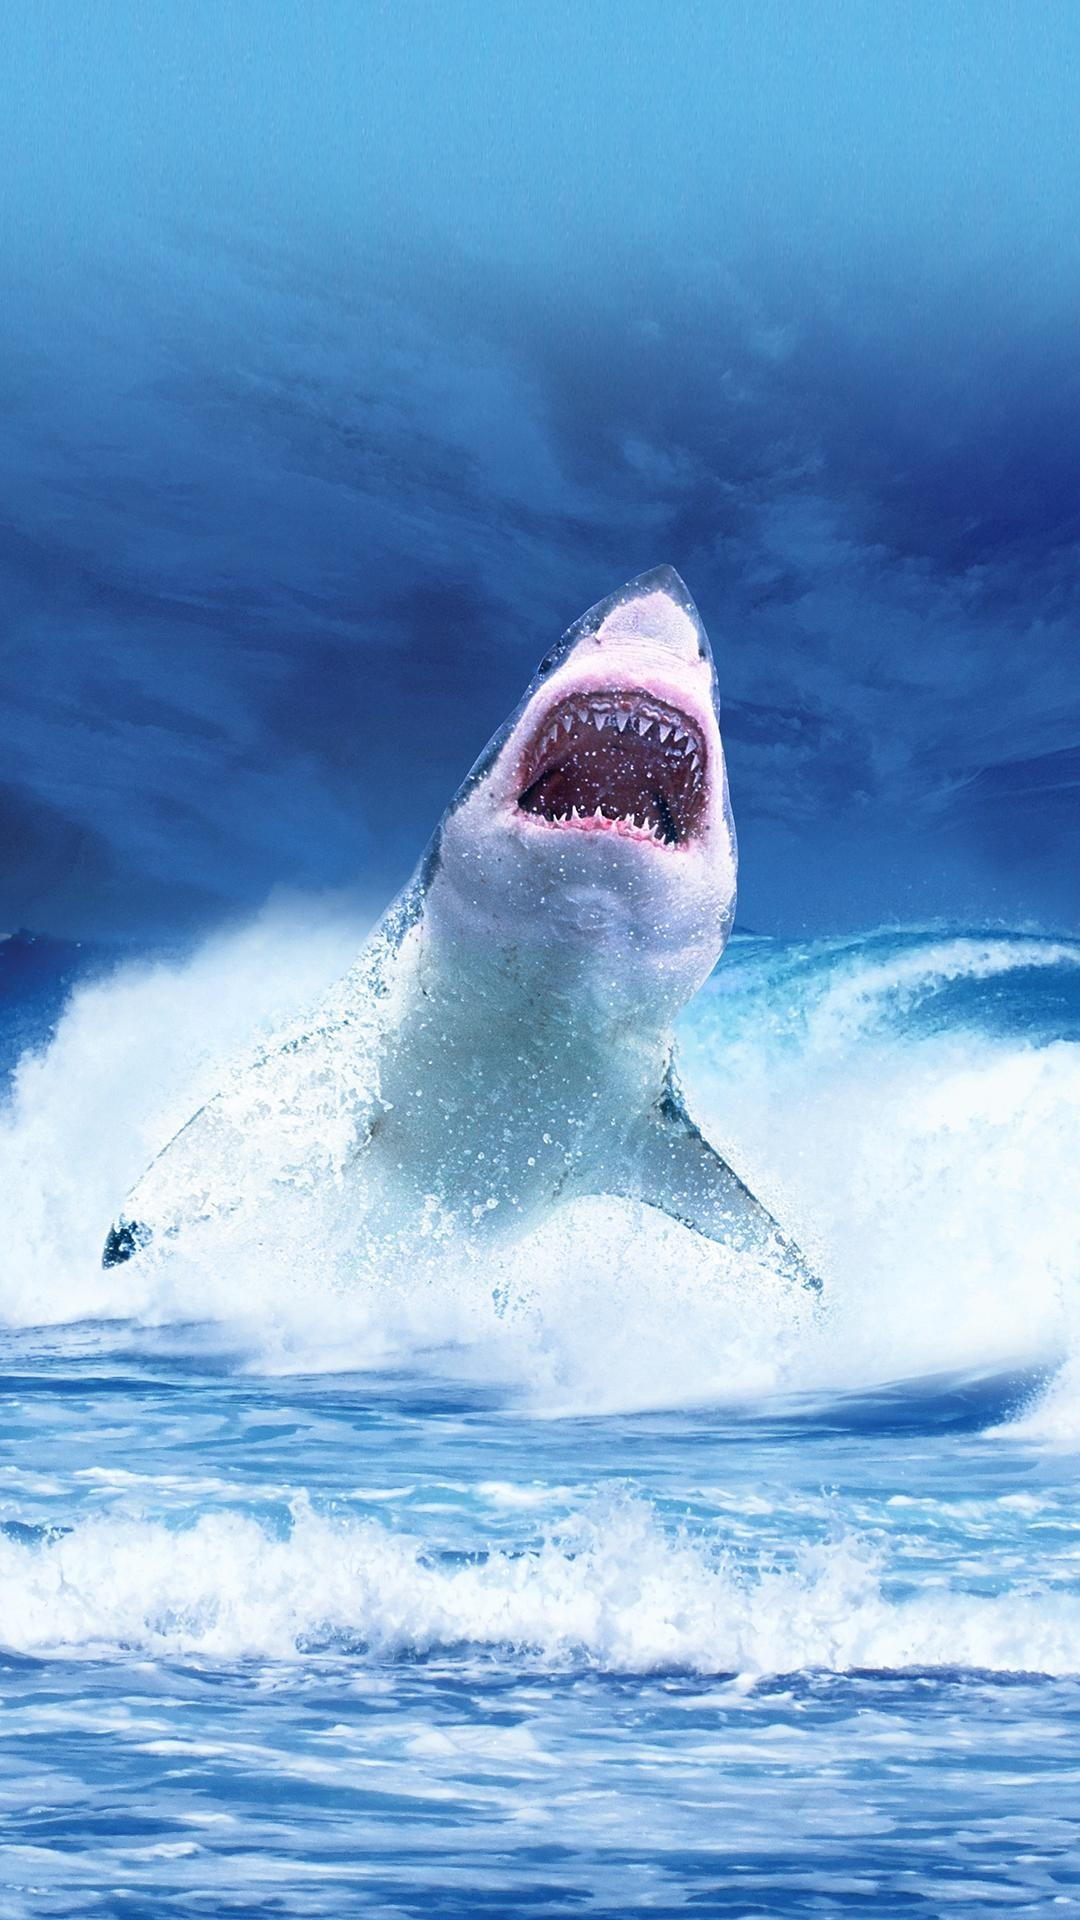fish: (80, 555, 839, 1357)
